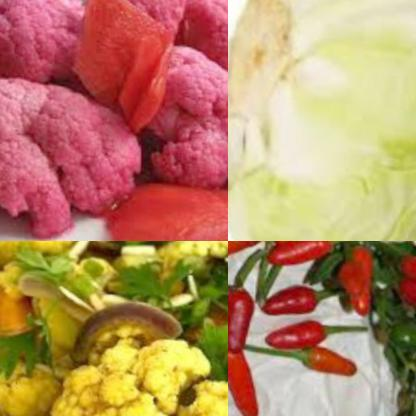cabbage: (228, 0, 416, 241)
cayliflower: (0, 61, 146, 241), (59, 310, 228, 416), (144, 0, 228, 199), (0, 0, 90, 107), (0, 241, 85, 277), (101, 0, 198, 14)
hot pepper: (331, 244, 384, 313), (228, 329, 270, 416), (254, 275, 329, 319), (263, 241, 342, 276), (298, 336, 364, 375), (266, 318, 334, 353), (228, 274, 256, 357), (391, 241, 416, 316)
